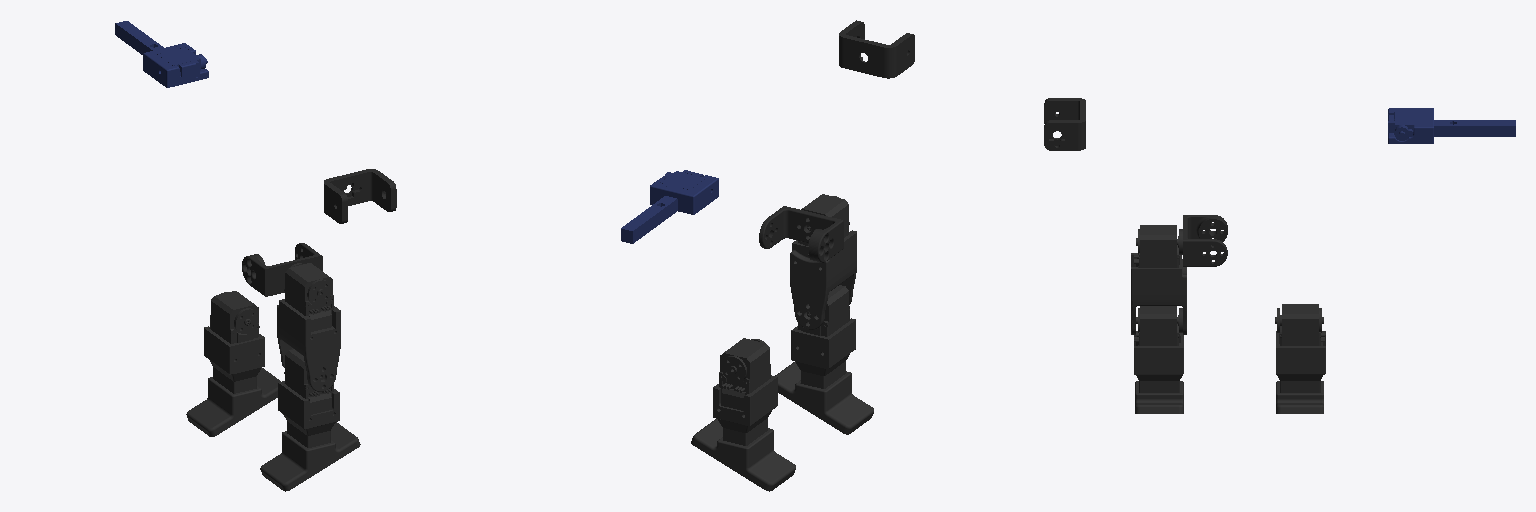
The robot description file, URDF, robot "tilt":
<?xml version='1.0' encoding='utf-8'?>
<robot name="tilt">
  <!-- post-processed by fix_tilt_model.py: links renamed, joint signs unified (tilt_config.h), limits added (arm/head = placeholder), sole frames added. effort/velocity approximate. -->
  <!-- Link assembly_1 -->
  <link name="torso">
    <inertial>
      <origin xyz="-0.0351133 0.0707522 0.228508" rpy="0 0 0" />
      <mass value="0.51291" />
      <inertia ixx="0.00275067" ixy="-6.5361e-08" ixz="-1.36569e-05" iyy="0.00211738" iyz="5.43081e-06" izz="0.00105409" />
    </inertial>
    <!-- Part assembly_1_parts -->
    <visual>
      <origin xyz="-0.0351133 0.0707522 0.228508" rpy="0 -0 0" />
      <geometry>
        <mesh filename="meshes/assembly_1_visual.stl" />
      </geometry>
      <material name="assembly_1_parts_material">
        <color rgba="0.26494 0.290247 0.320604 1" />
      </material>
    </visual>
    <collision>
      <origin xyz="-0.0351133 0.0707522 0.228508" rpy="0 -0 0" />
      <geometry>
        <mesh filename="meshes/assembly_1_collision.stl" />
      </geometry>
    </collision>
  </link>
  <!-- Link hip_pitch_mount -->
  <link name="r_hip">
    <inertial>
      <origin xyz="-0.0119393 8.041e-09 0.0229228" rpy="0 0 0" />
      <mass value="0.0102" />
      <inertia ixx="4.10473e-06" ixy="-0" ixz="-2.47838e-07" iyy="4.83245e-06" iyz="-1e-12" izz="1.62126e-06" />
    </inertial>
    <!-- Part hip_pitch_mount_parts -->
    <visual>
      <origin xyz="-0.0119393 8.041e-09 0.0229228" rpy="1.5708 1.5708 0" />
      <geometry>
        <mesh filename="meshes/hip_pitch_mount_visual.stl" />
      </geometry>
      <material name="hip_pitch_mount_parts_material">
        <color rgba="0.215686 0.215686 0.215686 1" />
      </material>
    </visual>
    <collision>
      <origin xyz="-0.0119393 8.041e-09 0.0229228" rpy="1.5708 1.5708 0" />
      <geometry>
        <mesh filename="meshes/hip_pitch_mount_collision.stl" />
      </geometry>
    </collision>
  </link>
  <!-- Link thigh -->
  <link name="r_thigh">
    <inertial>
      <origin xyz="4.30367e-05 -0.0211469 -0.0184847" rpy="0 0 0" />
      <mass value="0.07791" />
      <inertia ixx="3.44422e-05" ixy="5.036e-08" ixz="-1.883e-09" iyy="1.42377e-05" iyz="2.05053e-07" izz="2.97987e-05" />
    </inertial>
    <!-- Part thigh_parts -->
    <visual>
      <origin xyz="4.30367e-05 -0.0211469 -0.0184847" rpy="1.5708 0 3.14159" />
      <geometry>
        <mesh filename="meshes/thigh_visual.stl" />
      </geometry>
      <material name="thigh_parts_material">
        <color rgba="0.240149 0.240149 0.240159 1" />
      </material>
    </visual>
    <collision>
      <origin xyz="4.30367e-05 -0.0211469 -0.0184847" rpy="1.5708 0 3.14159" />
      <geometry>
        <mesh filename="meshes/thigh_collision.stl" />
      </geometry>
    </collision>
  </link>
  <!-- Link calf_l -->
  <link name="r_calf">
    <inertial>
      <origin xyz="0.0305877 -3.15613e-05 -0.0184448" rpy="0 0 0" />
      <mass value="0.09434" />
      <inertia ixx="1.86752e-05" ixy="-1.38513e-06" ixz="-4.18065e-07" iyy="7.16997e-05" iyz="2.57e-10" izz="7.15331e-05" />
    </inertial>
    <!-- Part calf_l_parts -->
    <visual>
      <origin xyz="0.0305877 -3.15613e-05 -0.0184448" rpy="1.5708 0 -1.5708" />
      <geometry>
        <mesh filename="meshes/calf_l_visual.stl" />
      </geometry>
      <material name="calf_l_parts_material">
        <color rgba="0.235889 0.235889 0.235897 1" />
      </material>
    </visual>
    <collision>
      <origin xyz="0.0305877 -3.15613e-05 -0.0184448" rpy="1.5708 0 -1.5708" />
      <geometry>
        <mesh filename="meshes/calf_l_collision.stl" />
      </geometry>
    </collision>
  </link>
  <!-- Joint from thigh to calf_l -->
  <joint name="r_knee_pitch" type="revolute">
    <origin xyz="0.0001 -0.0679996 0" rpy="-0 0 -1.5708" />
    <parent link="r_thigh" />
    <child link="r_calf" />
    <axis xyz="0 0 1" />
    <limit effort="1.9" velocity="4.7" lower="-1.483530" upper="1.326450" />
  </joint>
  <!-- Joint from hip_pitch_mount to thigh -->
  <joint name="r_hip_pitch" type="revolute">
    <origin xyz="-0.024 0 0.0182" rpy="-3.14159 -1.5708 0" />
    <parent link="r_hip" />
    <child link="r_thigh" />
    <axis xyz="0 0 1" />
    <limit effort="1.9" velocity="4.7" lower="-1.605703" upper="0.349066" />
  </joint>
  <!-- Joint from assembly_1 to hip_pitch_mount -->
  <joint name="r_hip_roll" type="revolute">
    <origin xyz="-0.0168142 0.0579123 0.144054" rpy="-1.5708 0 1.5708" />
    <parent link="torso" />
    <child link="r_hip" />
    <axis xyz="0 0 -1" />
    <limit effort="1.9" velocity="4.7" lower="-0.226893" upper="0.296706" />
  </joint>
  <!-- Link hip_pitch_mount_2 -->
  <link name="l_hip">
    <inertial>
      <origin xyz="-0.0119393 8.041e-09 0.0229228" rpy="0 0 0" />
      <mass value="0.0102" />
      <inertia ixx="4.10473e-06" ixy="-0" ixz="-2.47838e-07" iyy="4.83245e-06" iyz="-1e-12" izz="1.62126e-06" />
    </inertial>
    <!-- Part hip_pitch_mount_2_parts -->
    <visual>
      <origin xyz="-0.0119393 8.041e-09 0.0229228" rpy="-1.5708 1.5708 0" />
      <geometry>
        <mesh filename="meshes/hip_pitch_mount_2_visual.stl" />
      </geometry>
      <material name="hip_pitch_mount_2_parts_material">
        <color rgba="0.215686 0.215686 0.215686 1" />
      </material>
    </visual>
    <collision>
      <origin xyz="-0.0119393 8.041e-09 0.0229228" rpy="-1.5708 1.5708 0" />
      <geometry>
        <mesh filename="meshes/hip_pitch_mount_2_collision.stl" />
      </geometry>
    </collision>
  </link>
  <!-- Link thigh_2 -->
  <link name="l_thigh">
    <inertial>
      <origin xyz="0.0211469 4.30366e-05 -0.0184847" rpy="0 0 0" />
      <mass value="0.07791" />
      <inertia ixx="1.42377e-05" ixy="-5.036e-08" ixz="-2.05053e-07" iyy="3.44422e-05" iyz="-1.883e-09" izz="2.97987e-05" />
    </inertial>
    <!-- Part thigh_2_parts -->
    <visual>
      <origin xyz="0.0211469 4.30366e-05 -0.0184847" rpy="-1.5708 0 1.5708" />
      <geometry>
        <mesh filename="meshes/thigh_2_visual.stl" />
      </geometry>
      <material name="thigh_2_parts_material">
        <color rgba="0.240149 0.240149 0.240159 1" />
      </material>
    </visual>
    <collision>
      <origin xyz="0.0211469 4.30366e-05 -0.0184847" rpy="-1.5708 0 1.5708" />
      <geometry>
        <mesh filename="meshes/thigh_2_collision.stl" />
      </geometry>
    </collision>
  </link>
  <!-- Link calf_r -->
  <link name="l_calf">
    <inertial>
      <origin xyz="0.0305877 3.15603e-05 -0.0185256" rpy="0 0 0" />
      <mass value="0.09434" />
      <inertia ixx="1.86699e-05" ixy="1.38513e-06" ixz="-2.23424e-07" iyy="7.16944e-05" iyz="9.5e-11" izz="7.15332e-05" />
    </inertial>
    <!-- Part calf_r_parts -->
    <visual>
      <origin xyz="0.0305877 3.15603e-05 -0.0185256" rpy="-1.5708 -0 1.5708" />
      <geometry>
        <mesh filename="meshes/calf_r_visual.stl" />
      </geometry>
      <material name="calf_r_parts_material">
        <color rgba="0.235889 0.235889 0.235897 1" />
      </material>
    </visual>
    <collision>
      <origin xyz="0.0305877 3.15603e-05 -0.0185256" rpy="-1.5708 -0 1.5708" />
      <geometry>
        <mesh filename="meshes/calf_r_collision.stl" />
      </geometry>
    </collision>
  </link>
  <!-- Joint from thigh_2 to calf_r -->
  <joint name="l_knee_pitch" type="revolute">
    <origin xyz="0.0679996 0.0001 0" rpy="-0 -0 0" />
    <parent link="l_thigh" />
    <child link="l_calf" />
    <axis xyz="0 0 -1" />
    <limit effort="1.9" velocity="4.7" lower="-1.483530" upper="1.326450" />
  </joint>
  <!-- Joint from hip_pitch_mount_2 to thigh_2 -->
  <joint name="l_hip_pitch" type="revolute">
    <origin xyz="-0.024 -0 0.0182" rpy="-1.5708 0 -1.5708" />
    <parent link="l_hip" />
    <child link="l_thigh" />
    <axis xyz="0 0 -1" />
    <limit effort="1.9" velocity="4.7" lower="-1.605703" upper="0.349066" />
  </joint>
  <!-- Joint from assembly_1 to hip_pitch_mount_2 -->
  <joint name="l_hip_roll" type="revolute">
    <origin xyz="-0.0168142 0.0839123 0.144054" rpy="1.5708 -0 -1.5708" />
    <parent link="torso" />
    <child link="l_hip" />
    <axis xyz="0 0 -1" />
    <limit effort="1.9" velocity="4.7" lower="-0.226893" upper="0.296706" />
  </joint>
  <!-- Link assembly_1_2 -->
  <link name="head">
    <inertial>
      <origin xyz="0.00506142 0.038219 -0.0241988" rpy="0 0 0" />
      <mass value="0.29357" />
      <inertia ixx="0.000538412" ixy="6.00935e-05" ixz="3.7504e-06" iyy="0.00061953" iyz="-7.21567e-06" izz="0.00028" />
    </inertial>
    <!-- Part assembly_1_2_parts -->
    <visual>
      <origin xyz="0.00506142 0.038219 -0.0241988" rpy="1.5708 0 1.5708" />
      <geometry>
        <mesh filename="meshes/assembly_1_2_visual.stl" />
      </geometry>
      <material name="assembly_1_2_parts_material">
        <color rgba="0.384639 0.384639 0.384639 1" />
      </material>
    </visual>
    <collision>
      <origin xyz="0.00506142 0.038219 -0.0241988" rpy="1.5708 0 1.5708" />
      <geometry>
        <mesh filename="meshes/assembly_1_2_collision.stl" />
      </geometry>
    </collision>
  </link>
  <!-- Joint from assembly_1 to assembly_1_2 -->
  <joint name="head_pitch" type="revolute">
    <origin xyz="-0.0351142 0.0943123 0.352973" rpy="-1.5708 -1.5708 0" />
    <parent link="torso" />
    <child link="head" />
    <axis xyz="0 0 1" />
    <limit effort="1.0" velocity="6.0" lower="-0.785398" upper="0.785398" />
  </joint>
  <!-- Link shoulder -->
  <link name="r_shoulder">
    <inertial>
      <origin xyz="-0.000808697 -6e-12 -0.0115843" rpy="0 0 0" />
      <mass value="0.01015" />
      <inertia ixx="1.54247e-06" ixy="0" ixz="-9.3704e-08" iyy="4.26025e-06" iyz="-0" izz="3.75091e-06" />
    </inertial>
    <!-- Part shoulder_parts -->
    <visual>
      <origin xyz="-0.000808697 -6e-12 -0.0115843" rpy="1.5708 0 0" />
      <geometry>
        <mesh filename="meshes/shoulder_visual.stl" />
      </geometry>
      <material name="shoulder_parts_material">
        <color rgba="0.215686 0.215686 0.215686 1" />
      </material>
    </visual>
    <collision>
      <origin xyz="-0.000808697 -6e-12 -0.0115843" rpy="1.5708 0 0" />
      <geometry>
        <mesh filename="meshes/shoulder_collision.stl" />
      </geometry>
    </collision>
  </link>
  <!-- Link arm_r_assembly -->
  <link name="r_arm">
    <inertial>
      <origin xyz="0.0178203 0.00182182 -0.0179663" rpy="0 0 0" />
      <mass value="0.02385" />
      <inertia ixx="2.34983e-06" ixy="-5.1197e-07" ixz="9.266e-08" iyy="1.55679e-05" iyz="8.15e-09" izz="1.39963e-05" />
    </inertial>
    <!-- Part arm_r_assembly_parts -->
    <visual>
      <origin xyz="0.0178203 0.00182182 -0.0179663" rpy="1.5708 -1.5708 0" />
      <geometry>
        <mesh filename="meshes/arm_r_assembly_visual.stl" />
      </geometry>
      <material name="arm_r_assembly_parts_material">
        <color rgba="0.204176 0.250216 0.44095 1" />
      </material>
    </visual>
    <collision>
      <origin xyz="0.0178203 0.00182182 -0.0179663" rpy="1.5708 -1.5708 0" />
      <geometry>
        <mesh filename="meshes/arm_r_assembly_collision.stl" />
      </geometry>
    </collision>
  </link>
  <!-- Joint from shoulder to arm_r_assembly -->
  <joint name="r_arm_roll" type="revolute">
    <origin xyz="0.01835 1.47e-10 -0.023" rpy="-0 1.5708 0" />
    <parent link="r_shoulder" />
    <child link="r_arm" />
    <axis xyz="0 0 1" />
    <limit effort="0.18" velocity="10.0" lower="-1.570796" upper="1.570796" />
  </joint>
  <!-- Joint from assembly_1 to shoulder -->
  <joint name="r_arm_pitch" type="revolute">
    <origin xyz="-0.0351142 -0.0415877 0.246073" rpy="-1.5708 -0 0" />
    <parent link="torso" />
    <child link="r_shoulder" />
    <axis xyz="0 0 1" />
    <limit effort="0.18" velocity="10.0" lower="-1.570796" upper="1.570796" />
  </joint>
  <!-- Link shoulder_2 -->
  <link name="l_shoulder">
    <inertial>
      <origin xyz="-0.000808697 -6e-12 -0.0115843" rpy="0 0 0" />
      <mass value="0.01015" />
      <inertia ixx="1.54247e-06" ixy="0" ixz="-9.3704e-08" iyy="4.26025e-06" iyz="-0" izz="3.75091e-06" />
    </inertial>
    <!-- Part shoulder_2_parts -->
    <visual>
      <origin xyz="-0.000808697 -6e-12 -0.0115843" rpy="-1.5708 -0 -0" />
      <geometry>
        <mesh filename="meshes/shoulder_2_visual.stl" />
      </geometry>
      <material name="shoulder_2_parts_material">
        <color rgba="0.215686 0.215686 0.215686 1" />
      </material>
    </visual>
    <collision>
      <origin xyz="-0.000808697 -6e-12 -0.0115843" rpy="-1.5708 -0 -0" />
      <geometry>
        <mesh filename="meshes/shoulder_2_collision.stl" />
      </geometry>
    </collision>
  </link>
  <!-- Link arm_l_assembly -->
  <link name="l_arm">
    <inertial>
      <origin xyz="0.0178203 -0.00182182 -0.0179663" rpy="0 0 0" />
      <mass value="0.02385" />
      <inertia ixx="2.34983e-06" ixy="5.1197e-07" ixz="9.266e-08" iyy="1.55679e-05" iyz="-8.15e-09" izz="1.39963e-05" />
    </inertial>
    <!-- Part arm_l_assembly_parts -->
    <visual>
      <origin xyz="0.0178203 -0.00182182 -0.0179663" rpy="-1.5708 -1.5708 0" />
      <geometry>
        <mesh filename="meshes/arm_l_assembly_visual.stl" />
      </geometry>
      <material name="arm_l_assembly_parts_material">
        <color rgba="0.204176 0.250216 0.44095 1" />
      </material>
    </visual>
    <collision>
      <origin xyz="0.0178203 -0.00182182 -0.0179663" rpy="-1.5708 -1.5708 0" />
      <geometry>
        <mesh filename="meshes/arm_l_assembly_collision.stl" />
      </geometry>
    </collision>
  </link>
  <!-- Joint from shoulder_2 to arm_l_assembly -->
  <joint name="l_arm_roll" type="revolute">
    <origin xyz="0.01835 1.47e-10 -0.023" rpy="0 1.5708 0" />
    <parent link="l_shoulder" />
    <child link="l_arm" />
    <axis xyz="0 0 1" />
    <limit effort="0.18" velocity="10.0" lower="-1.570796" upper="1.570796" />
  </joint>
  <!-- Joint from assembly_1 to shoulder_2 -->
  <joint name="l_arm_pitch" type="revolute">
    <origin xyz="-0.0351142 0.183212 0.246073" rpy="1.5708 -0 0" />
    <parent link="torso" />
    <child link="l_shoulder" />
    <axis xyz="0 0 -1" />
    <limit effort="0.18" velocity="10.0" lower="-1.570796" upper="1.570796" />
  </joint>
  <link name="r_sole" />
  <joint name="r_sole_fixed" type="fixed">
    <origin xyz="0.0764267 -0.00269444 -0.0181989" rpy="1.5708 9.07402e-06 -1.91987" />
    <parent link="r_calf" />
    <child link="r_sole" />
  </joint>
  <link name="l_sole" />
  <joint name="l_sole_fixed" type="fixed">
    <origin xyz="0.0764293 0.00269369 -0.0183993" rpy="-1.5708 1.25689e-06 1.91987" />
    <parent link="l_calf" />
    <child link="l_sole" />
  </joint>
</robot>

--- Facts derived from the render (not from the file) ---
3 views of the same robot in one strip: view 1: azimuth 30°, elevation 25°; view 2: azimuth 150°, elevation 25°; view 3: azimuth 270°, elevation 25° (orthographic).
Model tilt with 14 links and 13 joints (11 revolute, 2 fixed), rooted at torso, posed every joint at zero.
Links seen in each view (by area): view 1: l_calf, r_calf, r_thigh, l_arm, r_shoulder, r_hip; view 2: l_calf, r_calf, r_thigh, l_arm, r_hip, r_shoulder; view 3: l_calf, r_calf, r_thigh, l_arm, r_hip, r_shoulder.
Link boxes in pixels (<box>): l_calf: <box>186,291,280,436</box>; r_calf: <box>260,348,360,491</box>; r_thigh: <box>277,263,340,391</box>; l_arm: <box>115,21,208,87</box>; r_shoulder: <box>324,169,396,223</box>; r_hip: <box>242,243,322,296</box>; l_calf: <box>691,338,795,491</box>; r_calf: <box>775,285,873,434</box>; r_thigh: <box>790,194,856,329</box>; l_arm: <box>621,170,718,243</box>; r_hip: <box>759,206,843,262</box>; r_shoulder: <box>839,20,914,78</box>; l_calf: <box>1275,304,1325,413</box>; r_calf: <box>1134,306,1183,413</box>; r_thigh: <box>1131,225,1186,334</box>; l_arm: <box>1388,108,1515,143</box>; r_hip: <box>1183,215,1227,266</box>; r_shoulder: <box>1044,98,1085,150</box>.
Bounding box of the posed robot: 0.0678 × 0.3699 × 0.2706 m (x, y, z).
6 mesh visuals loaded from 12 distinct referenced files (6 binary STL); not drawn: 6 (reference not matched to a file when rendering).
